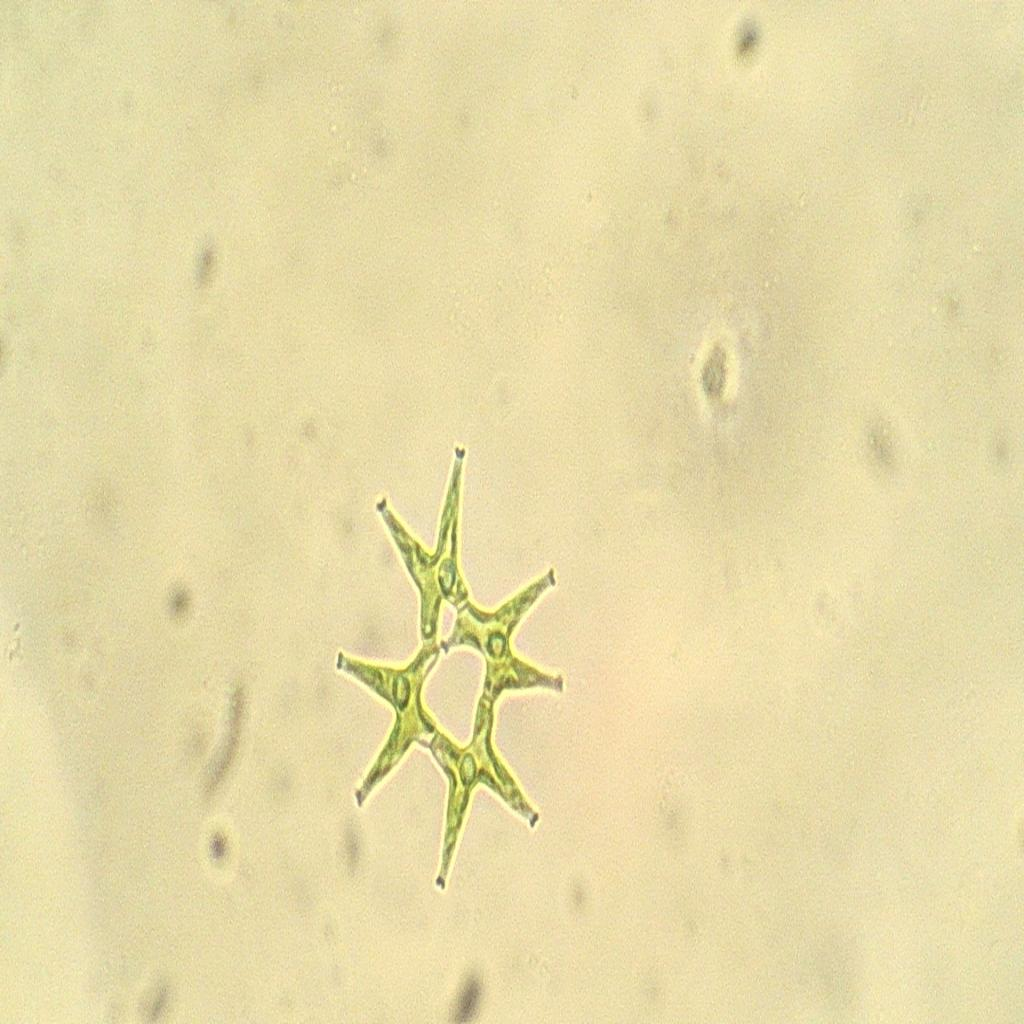Pediastrum_75FO: (326, 431, 587, 918)
